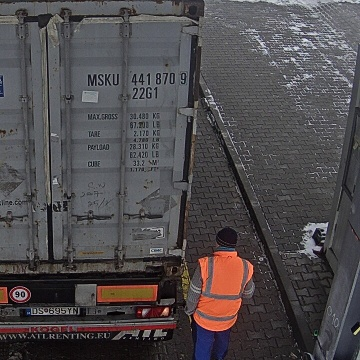serial_id: (87, 72, 186, 86)
